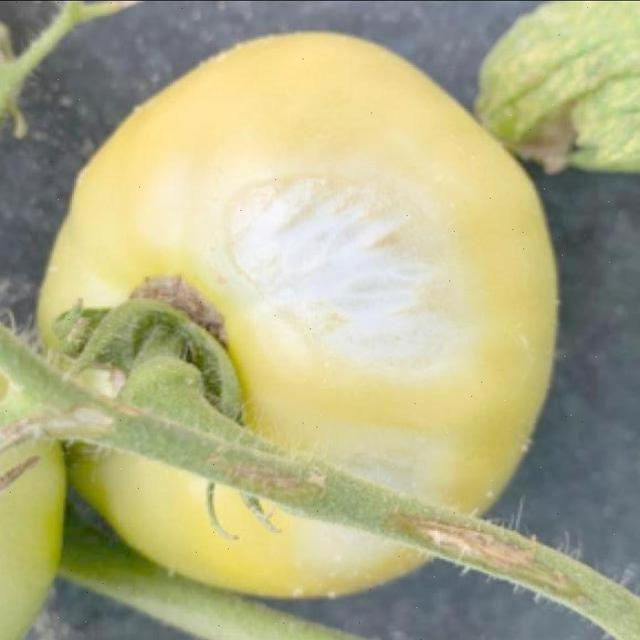Sunscald Fruit: (116, 98, 239, 326)
